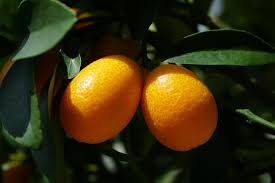orange: (52, 56, 138, 142), (140, 62, 220, 150)
